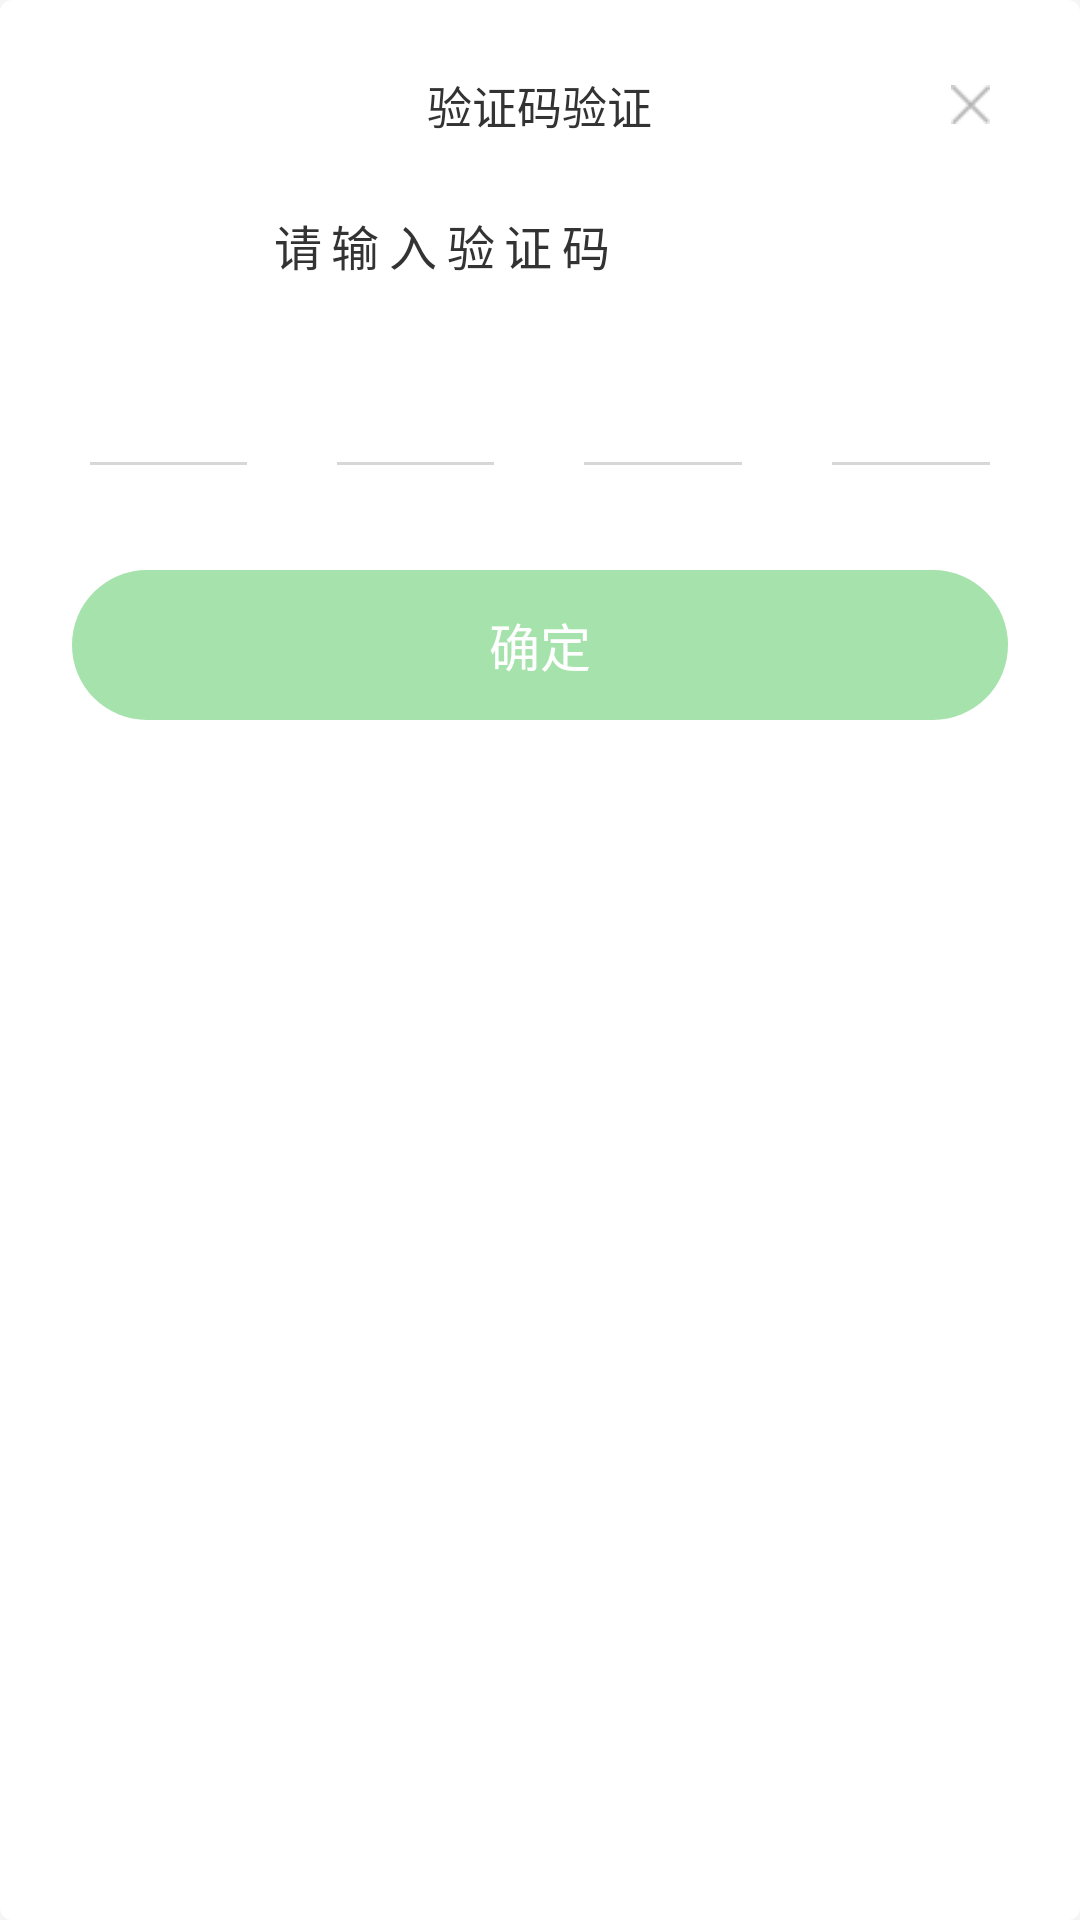

Where icons sit on this 1080w x 1920h app screen, as (x1, y1, x2, y2):
search history delete: (951, 85, 990, 124)
